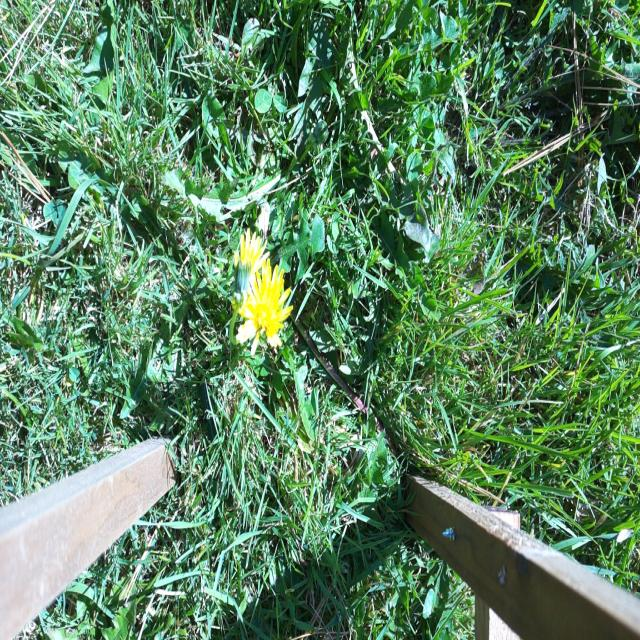base: (226, 297, 244, 330)
